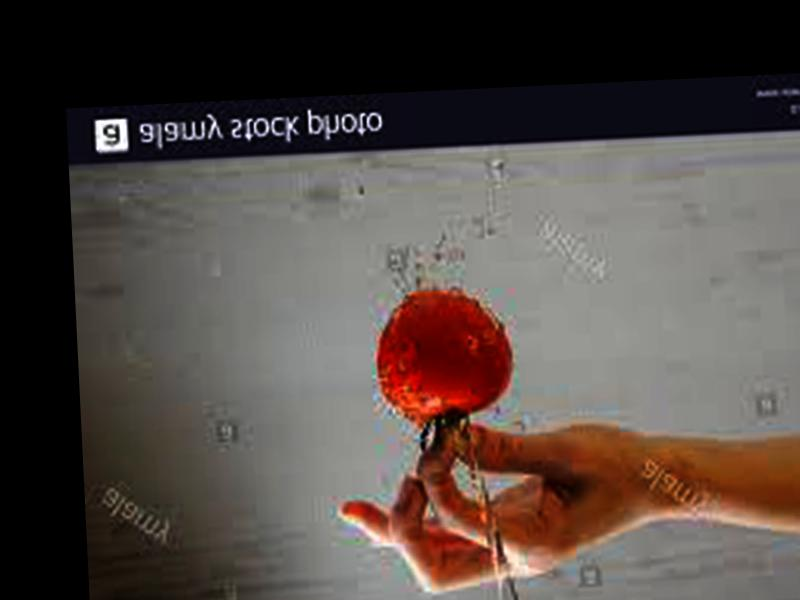Tomato: (377, 283, 518, 421)
